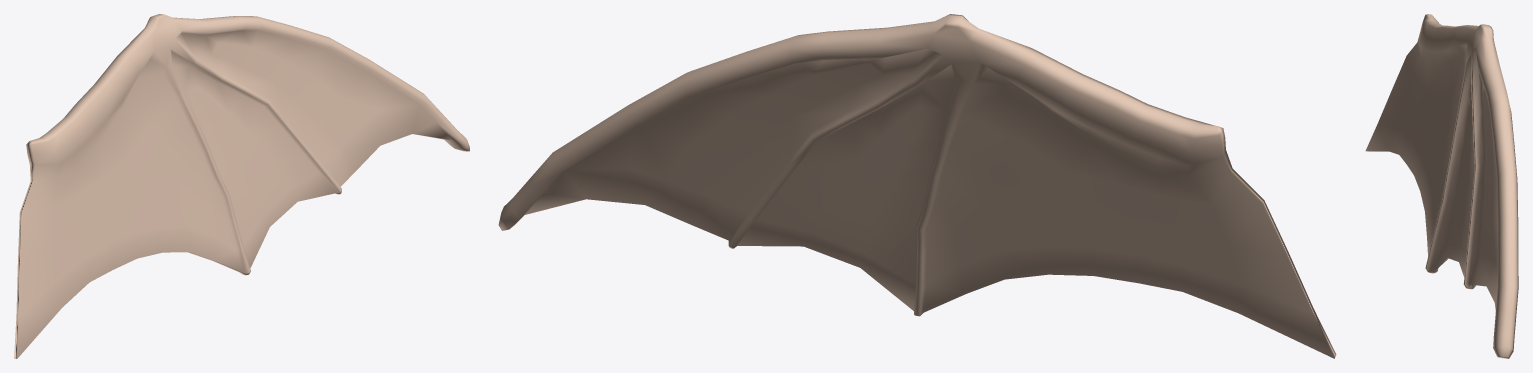
File: l_large_wing.fbx
The picture shows the model from 3 angles, left to right: view 1: azimuth 30°, elevation 25°; view 2: azimuth 150°, elevation 25°; view 3: azimuth 270°, elevation 25°; orthographic projection. The views are drawn at different scales.
Visible parts, largest first — view 1: polySurface2; view 2: polySurface2; view 3: polySurface2.
Part boxes in pixels (x1=…): polySurface2: x1=14, y1=14, x2=469, y2=358; polySurface2: x1=498, y1=14, x2=1336, y2=358; polySurface2: x1=1365, y1=14, x2=1518, y2=358.
Size of the model in its own units: 204 by 92.52 by 57.55.
